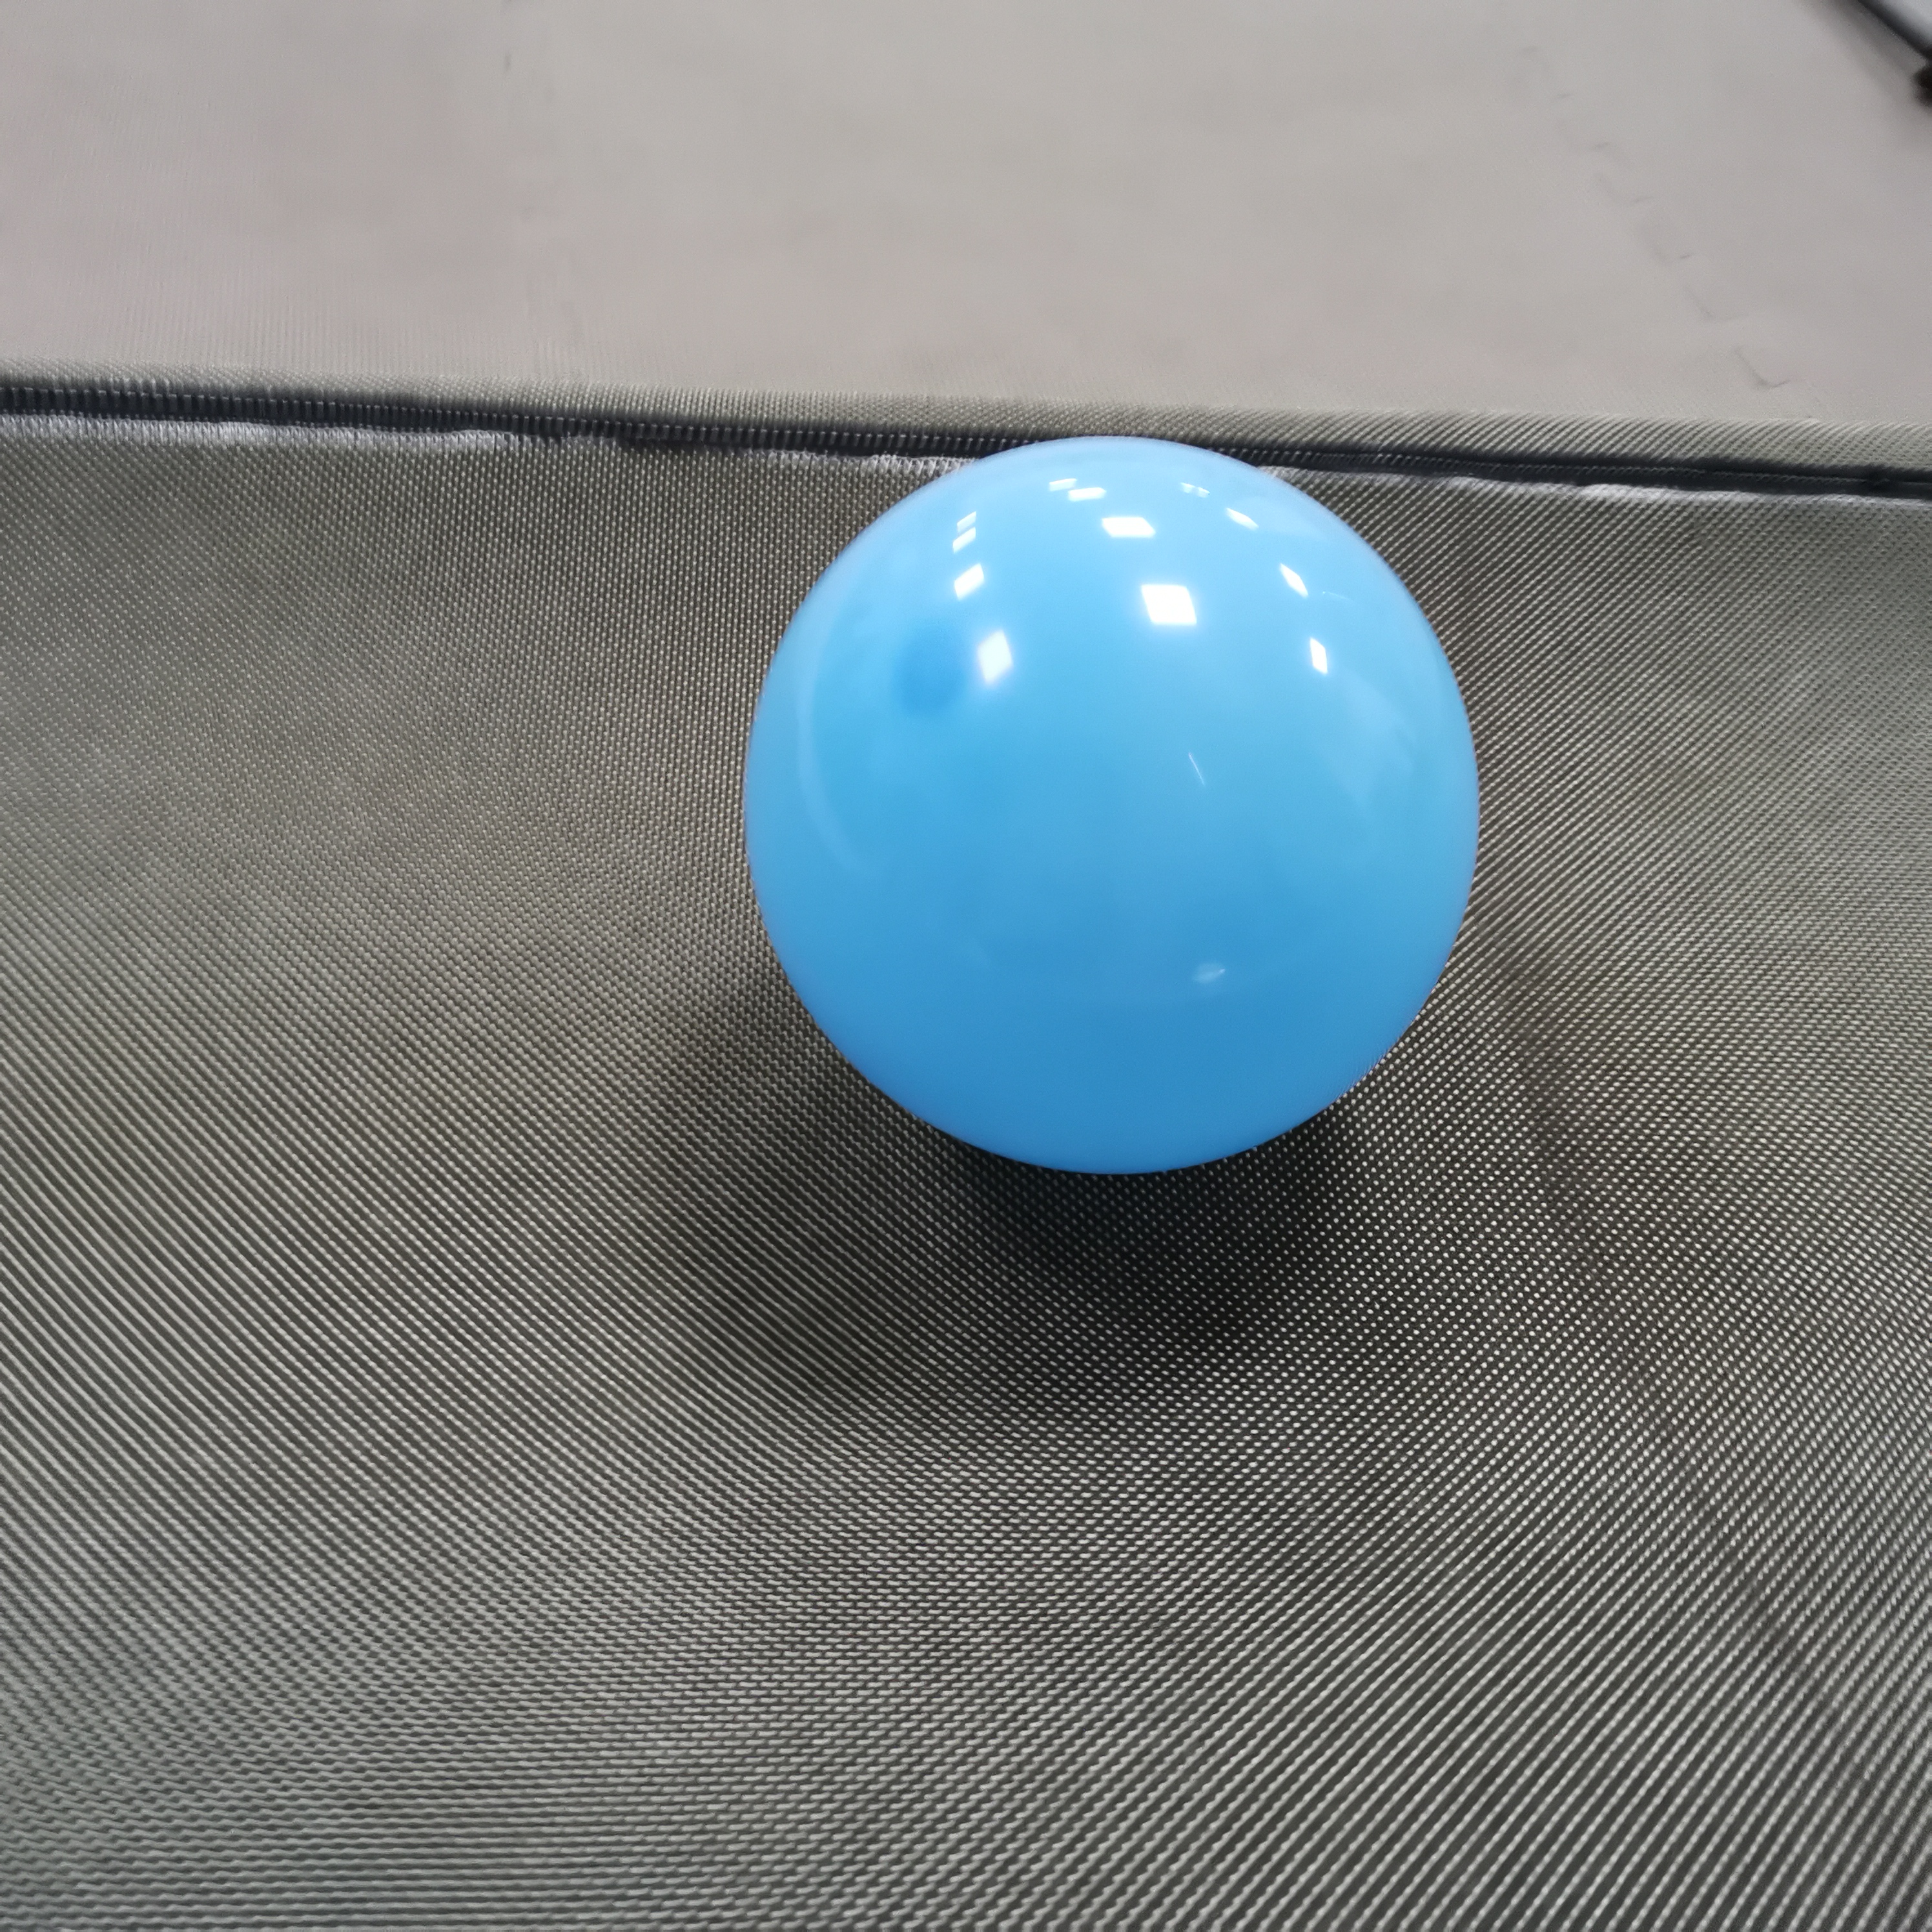balloon: (734, 433, 1477, 1177)
